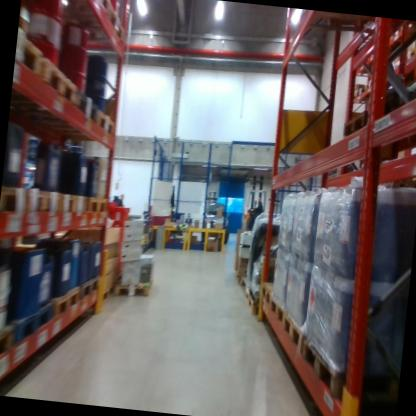forklift: (241, 168, 271, 239)
pallet: (0, 287, 262, 346), (294, 326, 403, 412), (42, 0, 129, 54), (12, 52, 87, 109), (53, 100, 120, 137), (13, 26, 49, 79), (105, 271, 155, 309), (33, 0, 119, 19), (0, 179, 39, 220), (47, 282, 83, 323), (28, 177, 64, 215), (279, 306, 308, 353), (336, 109, 373, 144), (73, 80, 102, 124), (0, 320, 19, 373), (61, 184, 90, 218), (267, 286, 286, 326), (87, 187, 112, 217), (396, 36, 416, 70), (99, 284, 120, 313), (79, 277, 102, 303), (364, 68, 389, 90), (257, 279, 274, 310), (350, 81, 364, 103)
